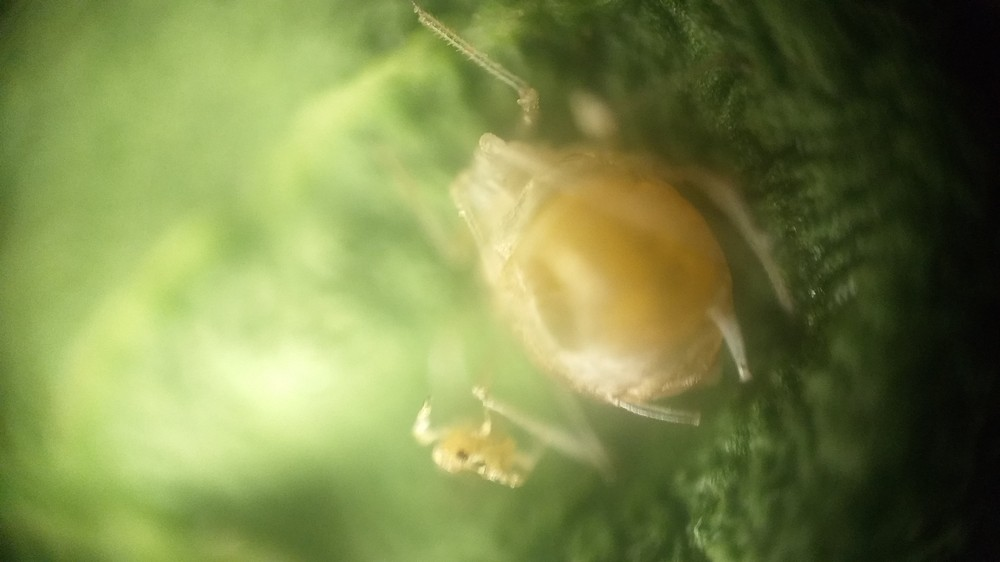Pulgon: (395, 36, 809, 464)
